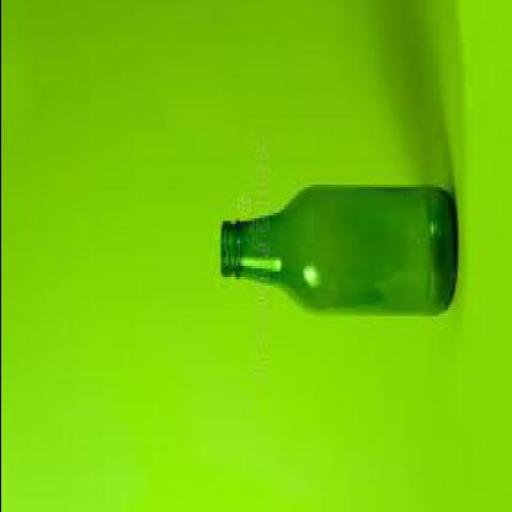glass: (218, 187, 456, 319)
